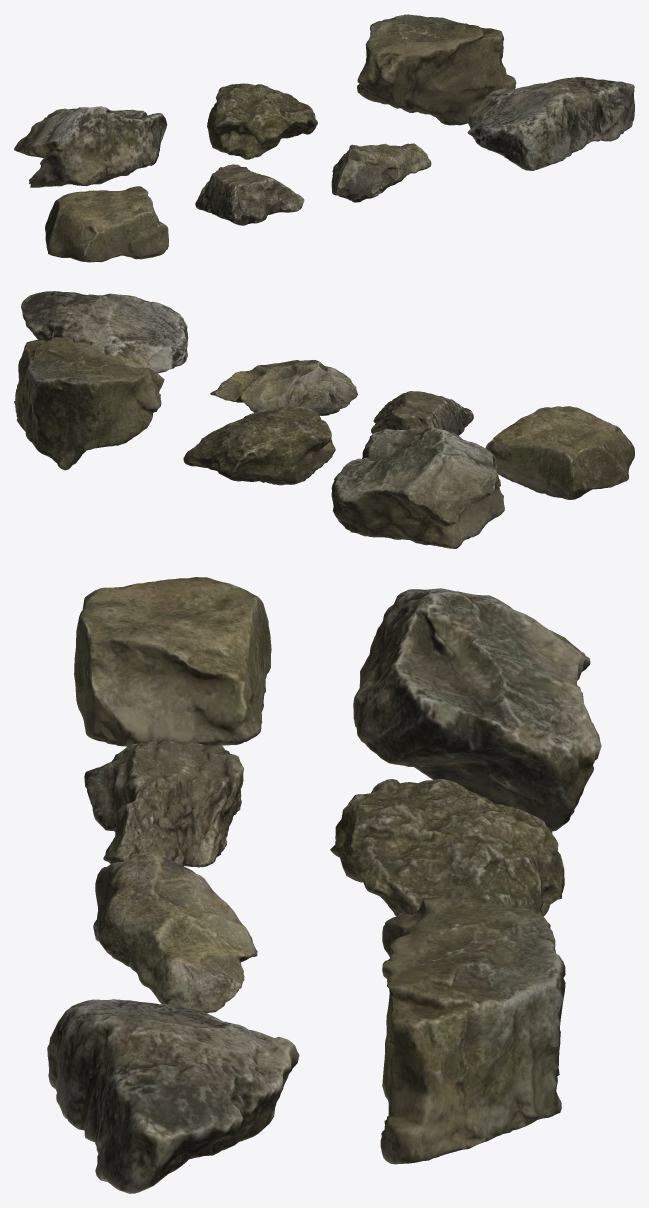
Rendered from rubble-boulder.glb.
3 views of the same model, one above another, from view 1: azimuth 30°, elevation 25°; view 2: azimuth 150°, elevation 25°; view 3: azimuth 270°, elevation 25° (orthographic). The views are drawn at different scales.
Visible parts, largest first — view 1: rock_moss_set_02_rock08; view 2: rock_moss_set_02_rock08; view 3: rock_moss_set_02_rock08.
Boxes of the visible parts, bbox=[...] form: rock_moss_set_02_rock08: bbox=[14, 14, 634, 262]; rock_moss_set_02_rock08: bbox=[14, 291, 634, 548]; rock_moss_set_02_rock08: bbox=[47, 577, 601, 1193].
Bounding box in the file's own units: 8.28 × 1.37 × 3.41.
Materials: 1 (1 with a texture image).
